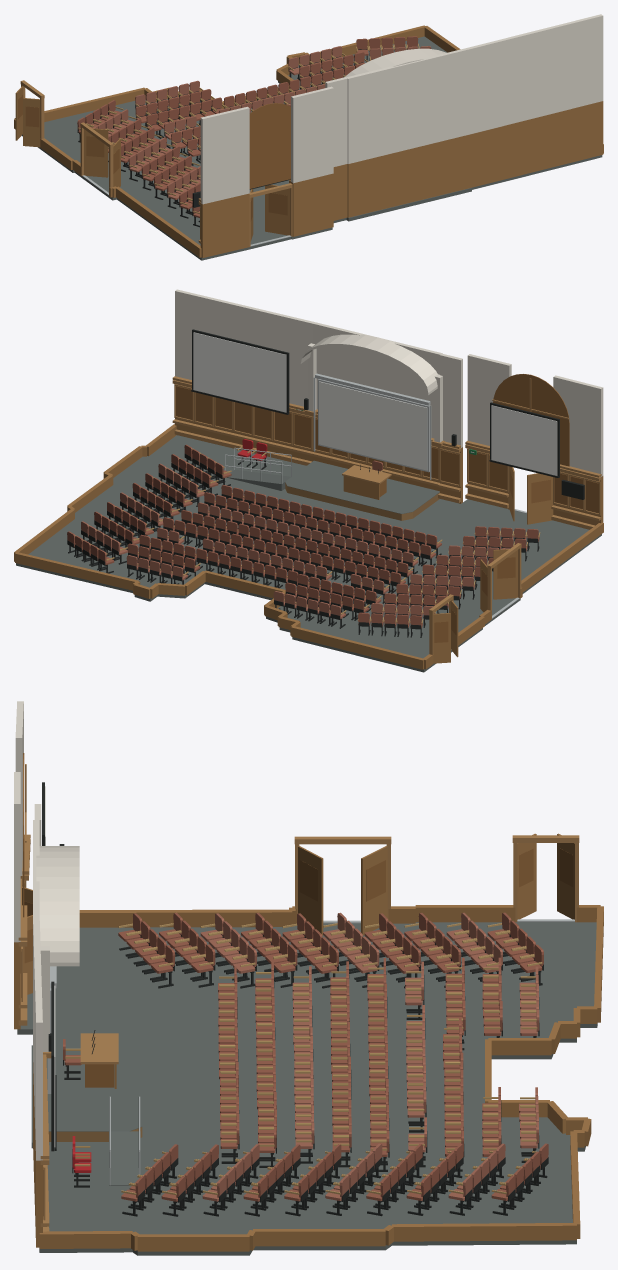
Rendered from clm-hongkong-interior-0fa6fa355c22.glb.
The picture shows the model from 3 angles, top to bottom: view 1: azimuth 30°, elevation 25°; view 2: azimuth 150°, elevation 25°; view 3: azimuth 270°, elevation 25°; orthographic projection. The views are drawn at different scales.
Visible parts, largest first — view 1: clm-hongkong; view 2: clm-hongkong; view 3: clm-hongkong.
Part boxes in pixels (x1,y1,x2,y2): clm-hongkong: (14,14,603,260); clm-hongkong: (14,289,603,672); clm-hongkong: (14,701,603,1255).
Bounding box in the file's own units: 21.44 × 6.82 × 15.68.
